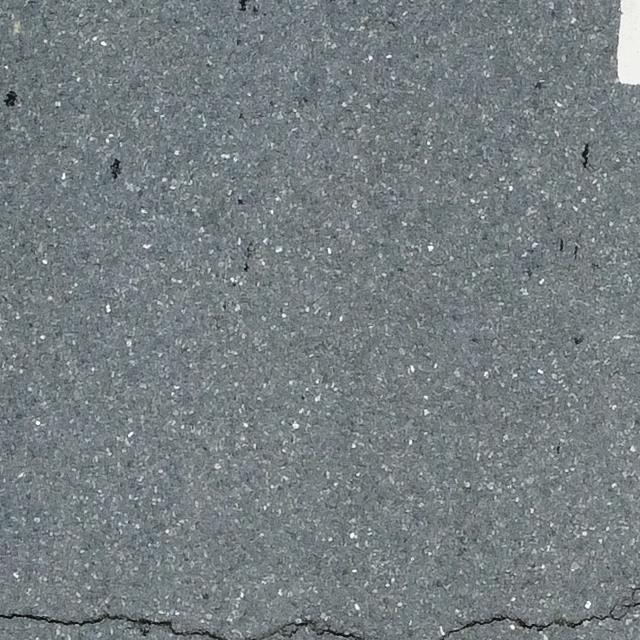TransverseCrack: (435, 588, 640, 638), (1, 611, 226, 640), (257, 619, 360, 640)
